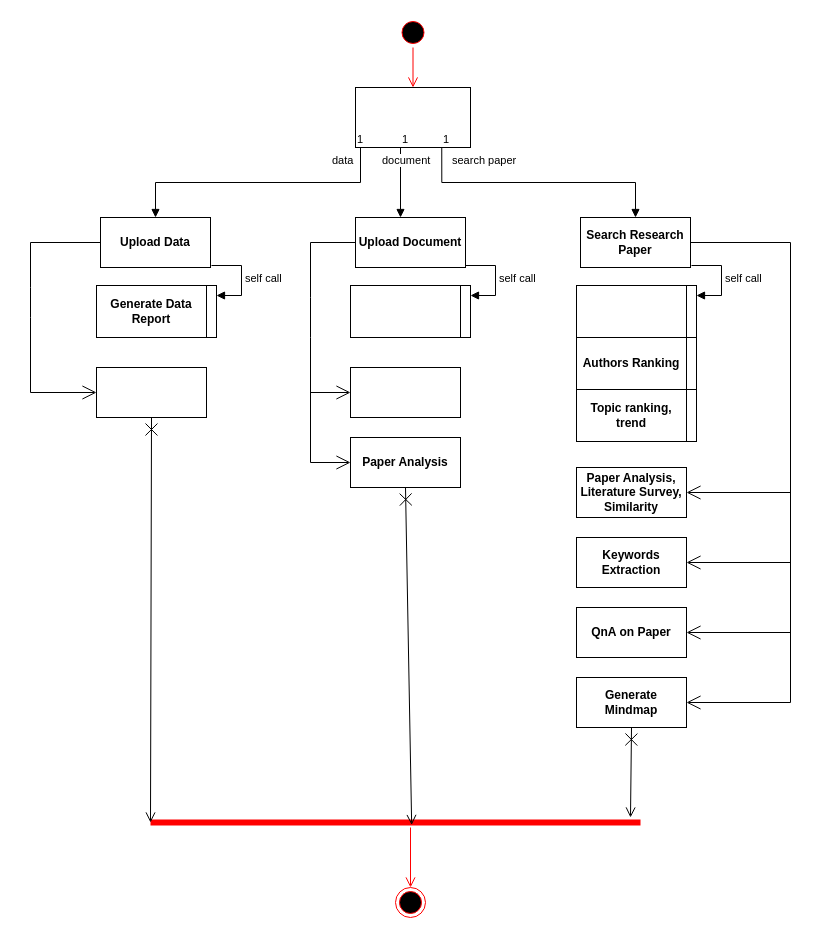
Some shapes in this 822 by 935 pixel diagram are drawn without their labels. The box of each missing label's shape, as (x1, y1, x2, y2) in pixels:
Get document title, abstract , author: (350, 284, 460, 338)
QnA on Data: (96, 366, 206, 418)
QnA on Document: (350, 366, 460, 418)
Research Papers: (576, 284, 686, 338)
«interface» Aplooza: (354, 86, 470, 148)
